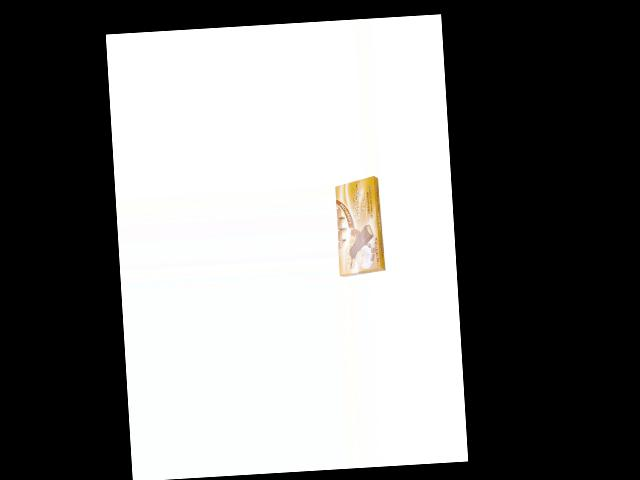chocolate: (333, 173, 385, 277)
